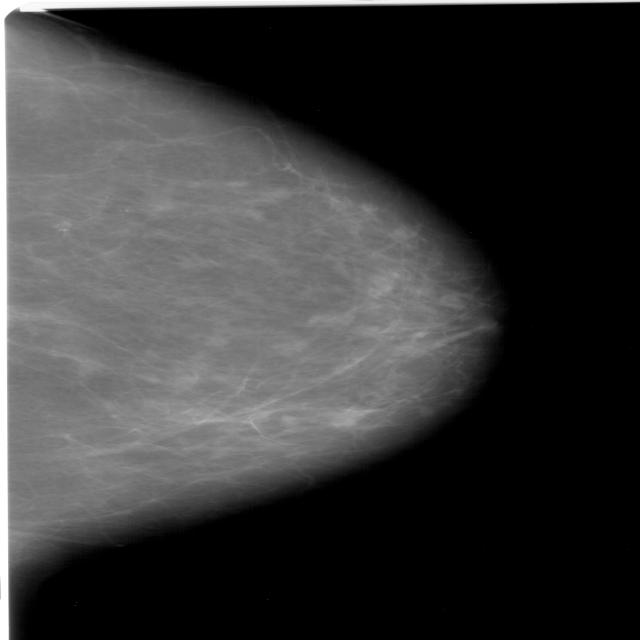normal: (0, 12, 489, 557)
